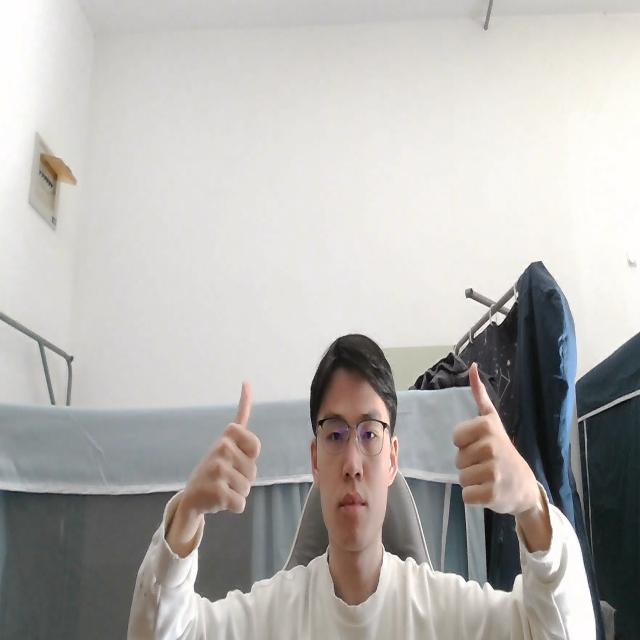good: (447, 358, 528, 518), (181, 380, 264, 524)
